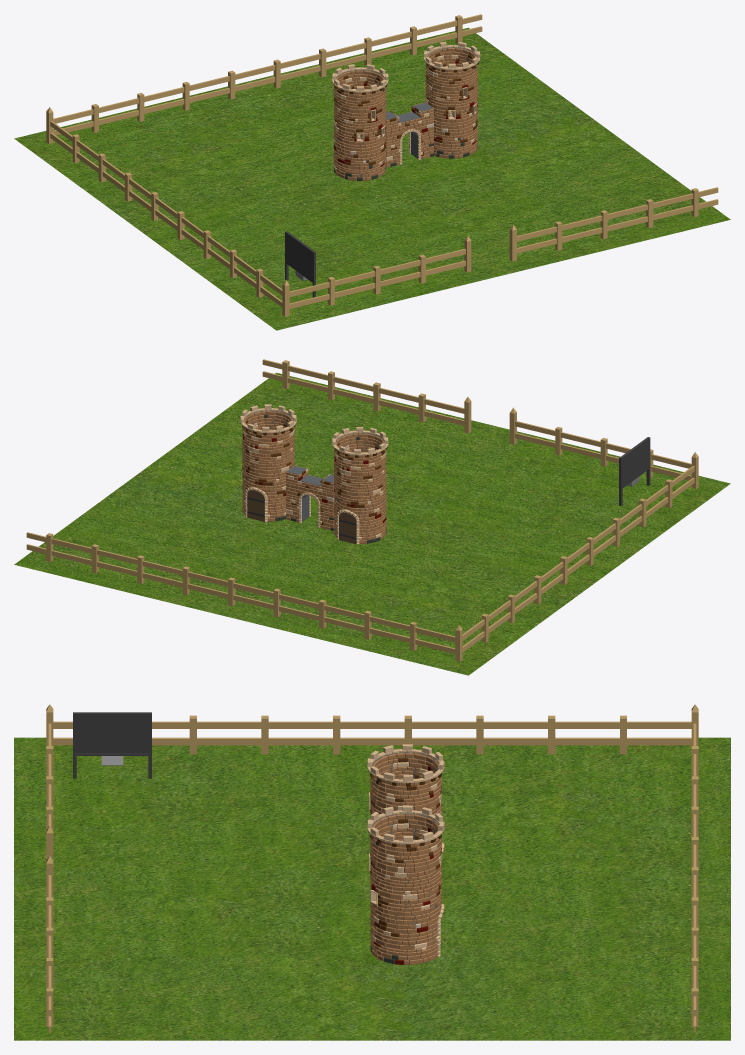
File: region-0.glb
3 views of the same model, one above another, from view 1: azimuth 30°, elevation 25°; view 2: azimuth 150°, elevation 25°; view 3: azimuth 270°, elevation 25° (orthographic). The views are drawn at different scales.
Parts seen in each view (by area): view 1: base, fence-mid-piece-x5.002, fence-mid-piece-x4, fence-mid-piece-x5.001, wall-section-with-doorway, top-section-with-crenellation, top-section-with-crenellation.001, fence-mid-piece-x3.003, fence-mid-piece-x3, base-section-with-doorway, mid-section-with-three-slits, mid-section-with-three-slits.001 (+8 smaller); view 2: base, fence-mid-piece-x5.002, fence-mid-piece-x4, fence-mid-piece-x5.001, wall-section-with-doorway, top-section-with-crenellation.001, top-section-with-crenellation, fence-mid-piece-x3.003, mid-section-with-three-slits, mid-section-with-three-slits.001, fence-mid-piece-x3, base-section-with-doorway (+9 smaller); view 3: base, fence-mid-piece-x5.001, fence-mid-piece-x3.001, top-section-with-crenellation.001, top-section-with-crenellation, info-board-assembly-large, mid-section-with-three-slits.001, base-section-with-doorway.001, fence-mid-piece-x5.002, fence-mid-piece-x4, fence-corner-piece.001, fence-mid-piece-x3.003 (+3 smaller).
Boxes of the visible parts, x1=… form: base: x1=14, y1=27, x2=730, y2=330; fence-mid-piece-x5.002: x1=72, y1=58, x2=300, y2=132; fence-mid-piece-x4: x1=299, y1=14, x2=482, y2=77; fence-mid-piece-x5.001: x1=141, y1=187, x2=273, y2=299; wall-section-with-doorway: x1=385, y1=102, x2=433, y2=167; top-section-with-crenellation: x1=332, y1=64, x2=388, y2=109; top-section-with-crenellation.001: x1=423, y1=41, x2=480, y2=86; fence-mid-piece-x3.003: x1=536, y1=198, x2=672, y2=250; fence-mid-piece-x3: x1=308, y1=254, x2=445, y2=305; base-section-with-doorway: x1=333, y1=133, x2=385, y2=180; mid-section-with-three-slits: x1=334, y1=88, x2=386, y2=144; mid-section-with-three-slits.001: x1=425, y1=66, x2=477, y2=122; base: x1=14, y1=372, x2=730, y2=675; fence-mid-piece-x5.002: x1=208, y1=576, x2=436, y2=650; fence-mid-piece-x4: x1=26, y1=532, x2=208, y2=595; fence-mid-piece-x5.001: x1=550, y1=474, x2=682, y2=586; wall-section-with-doorway: x1=286, y1=465, x2=334, y2=530; top-section-with-crenellation.001: x1=240, y1=404, x2=296, y2=449; top-section-with-crenellation: x1=332, y1=427, x2=388, y2=472; fence-mid-piece-x3.003: x1=308, y1=370, x2=445, y2=422; mid-section-with-three-slits: x1=334, y1=451, x2=386, y2=507; mid-section-with-three-slits.001: x1=242, y1=429, x2=294, y2=485; fence-mid-piece-x3: x1=535, y1=426, x2=672, y2=477; base-section-with-doorway: x1=334, y1=497, x2=386, y2=544; base: x1=14, y1=737, x2=730, y2=1040; fence-mid-piece-x5.001: x1=152, y1=715, x2=444, y2=754; fence-mid-piece-x3.001: x1=444, y1=715, x2=659, y2=754; top-section-with-crenellation.001: x1=367, y1=805, x2=444, y2=867; top-section-with-crenellation: x1=367, y1=744, x2=444, y2=805; info-board-assembly-large: x1=73, y1=712, x2=151, y2=778; mid-section-with-three-slits.001: x1=369, y1=839, x2=441, y2=916; base-section-with-doorway.001: x1=370, y1=902, x2=444, y2=964; fence-mid-piece-x5.002: x1=691, y1=737, x2=698, y2=897; fence-mid-piece-x4: x1=691, y1=888, x2=698, y2=1032; fence-corner-piece.001: x1=659, y1=704, x2=698, y2=745; fence-mid-piece-x3.003: x1=46, y1=888, x2=53, y2=988.
Size of the model in its own units: 20 by 3.97 by 20.
43 materials, 1 textured.
